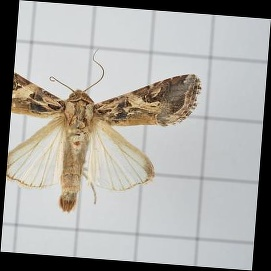Spodoptera litura: (10, 49, 199, 217)
